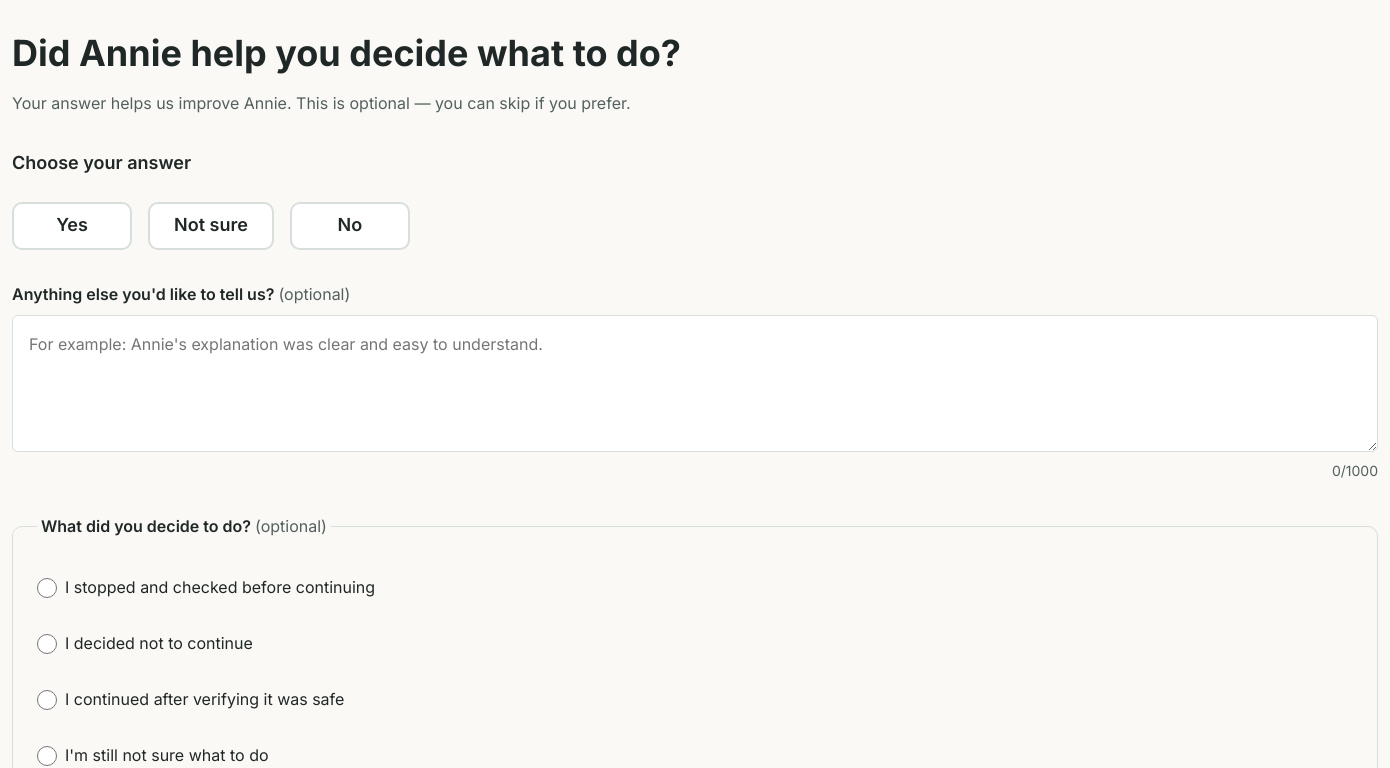
Test: FeedbackScreen — Submit button disabled state › Submit is enabled after selecting "Not sure"
Click the radio button labelled "Not sure".
click(211, 226)  # box top-left (148, 202), bottom-right (274, 250)
(page scrolled)
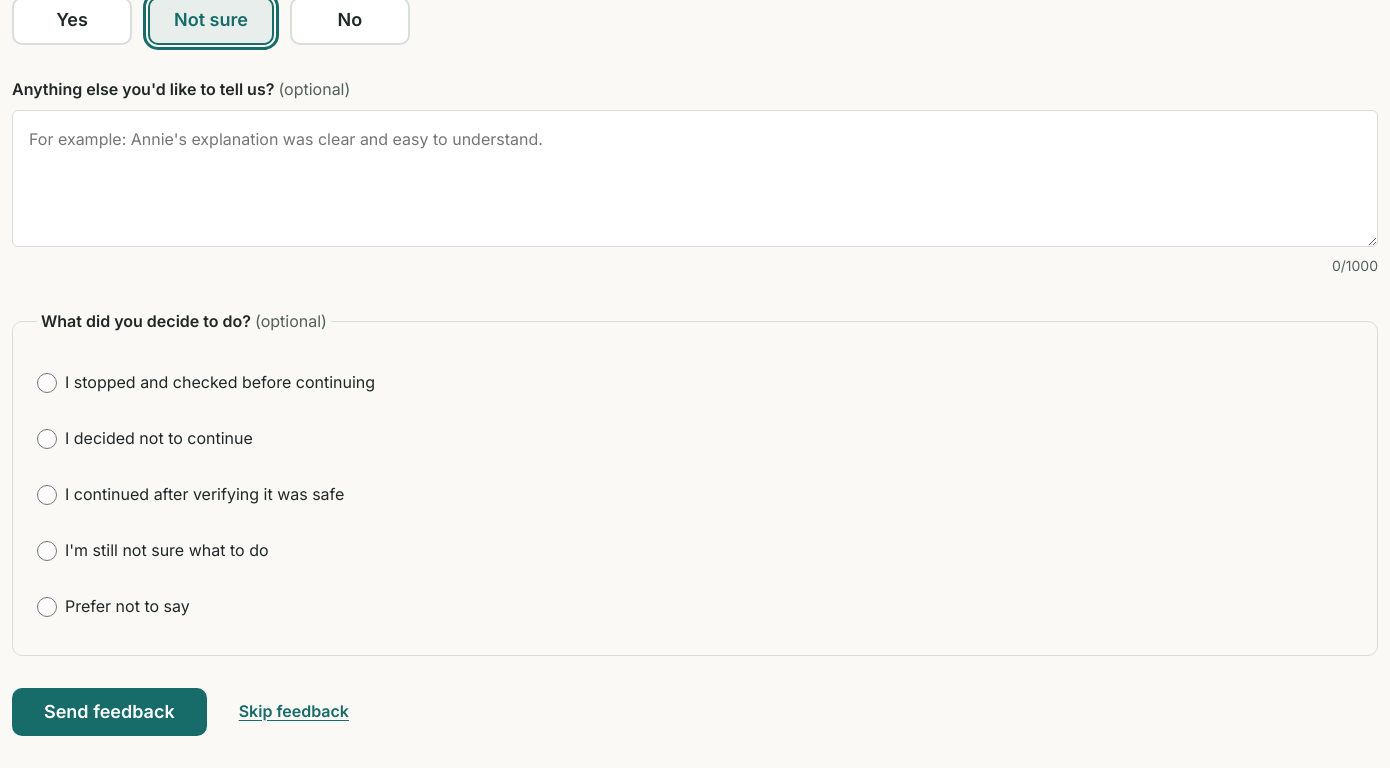
Expected: the button "Send feedback" is enabled, top-left (12, 688), bottom-right (207, 736)
